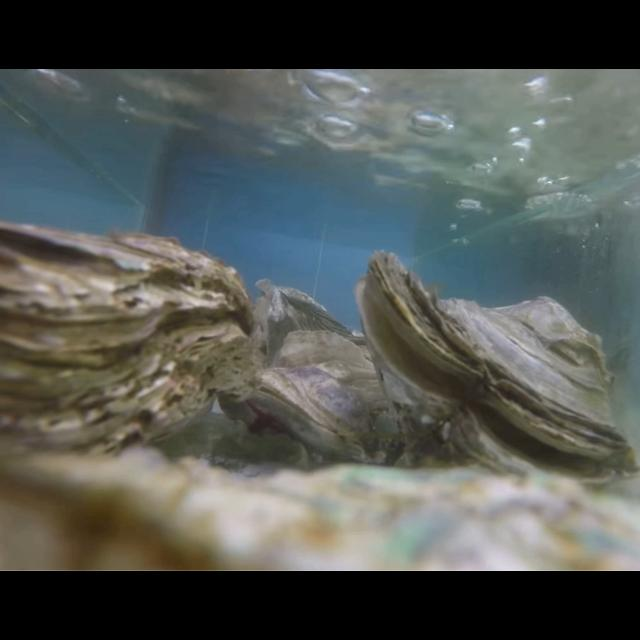Oyster-Closed: (0, 450, 640, 572), (1, 222, 258, 482), (254, 274, 370, 364)
Oyster-Open: (354, 252, 640, 496), (250, 329, 412, 468)
